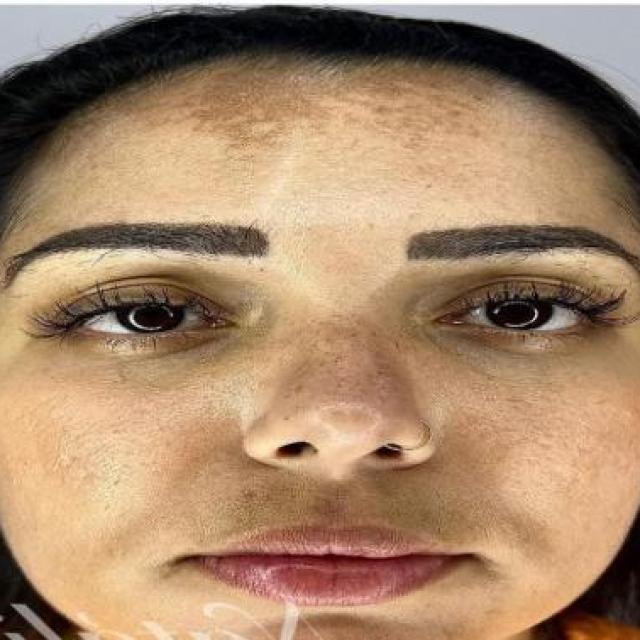melasma: (33, 47, 626, 236), (270, 315, 421, 428)
